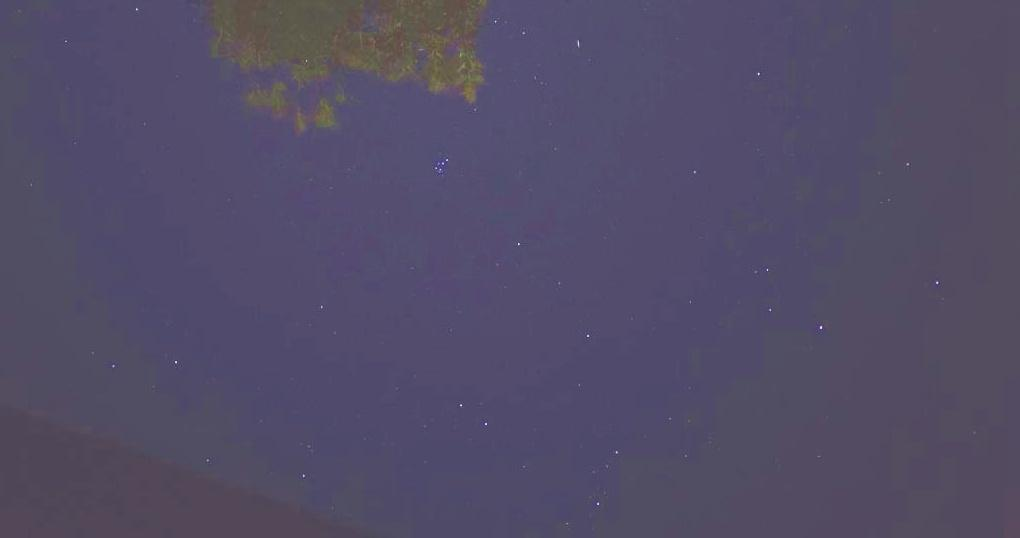meteorite: (565, 34, 592, 52)
